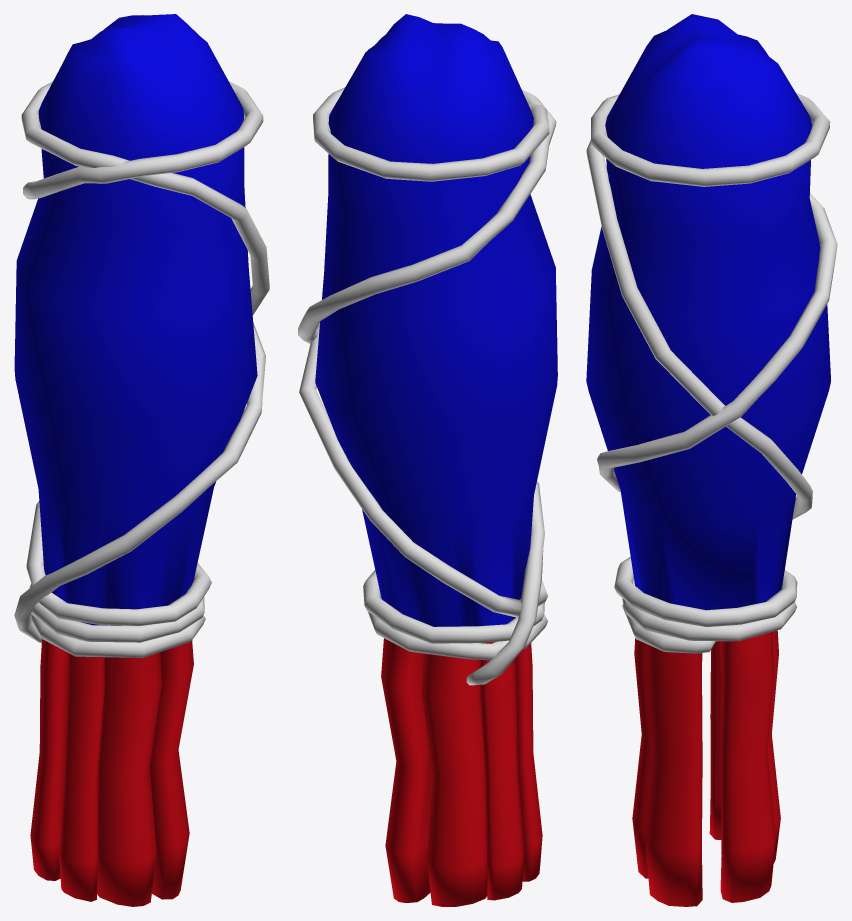
Rendered from Sage.fbx.
3 renders of one model, left to right at view 1: azimuth 30°, elevation 25°; view 2: azimuth 150°, elevation 25°; view 3: azimuth 270°, elevation 25°, orthographic.
Visible parts, largest first — view 1: Sage, SageRope; view 2: Sage, SageRope; view 3: Sage, SageRope.
Part boxes in pixels (left/top/right/bottom): Sage: left=14, top=14, right=257, bottom=906; SageRope: left=14, top=81, right=269, bottom=657; Sage: left=315, top=14, right=557, bottom=906; SageRope: left=298, top=87, right=556, bottom=685; Sage: left=586, top=14, right=830, bottom=906; SageRope: left=586, top=93, right=837, bottom=653.
Bounding box in the file's own units: 73.47 × 262 × 68.87.
